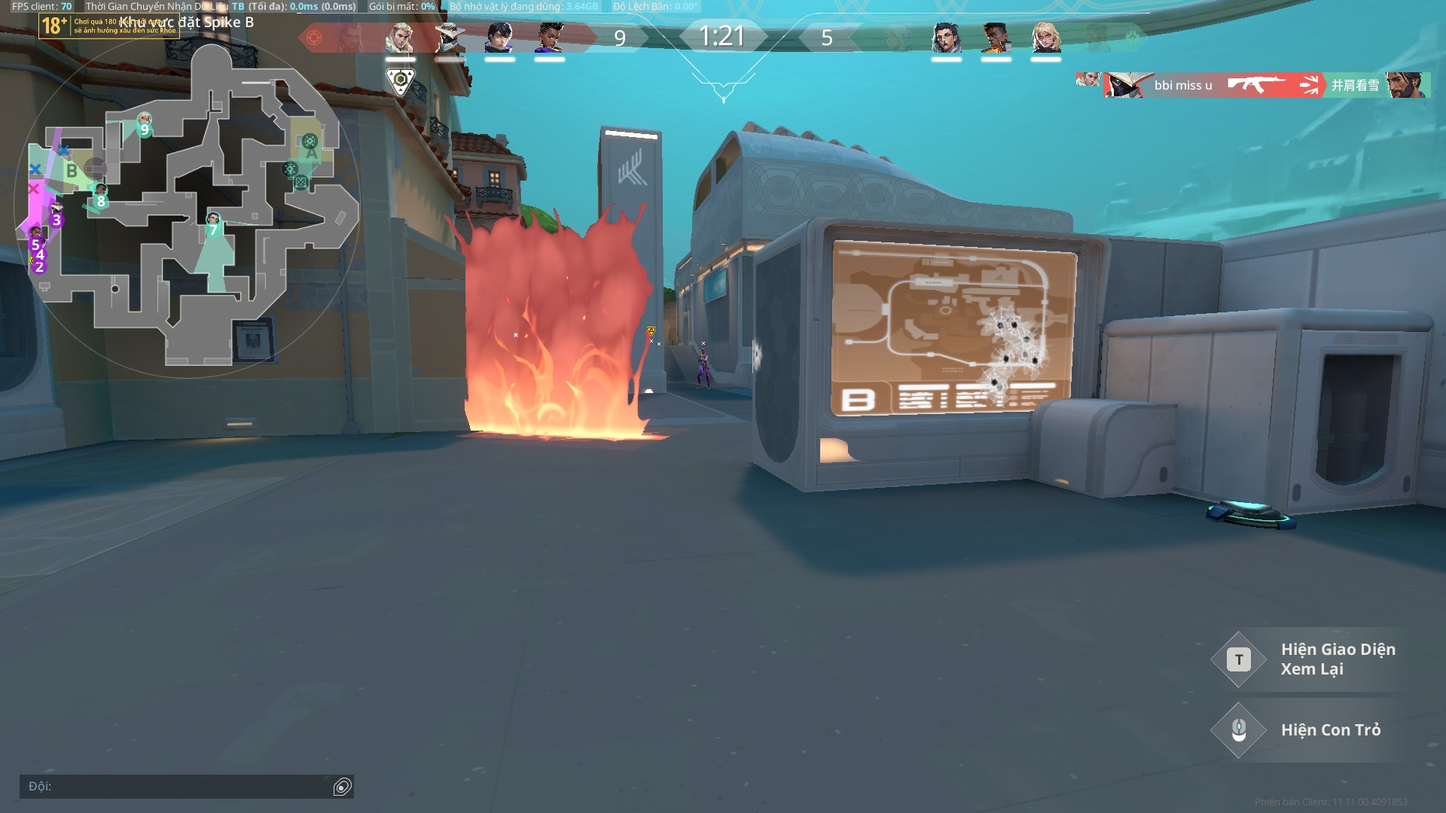body: (698, 354, 709, 367)
head: (700, 347, 706, 355)
